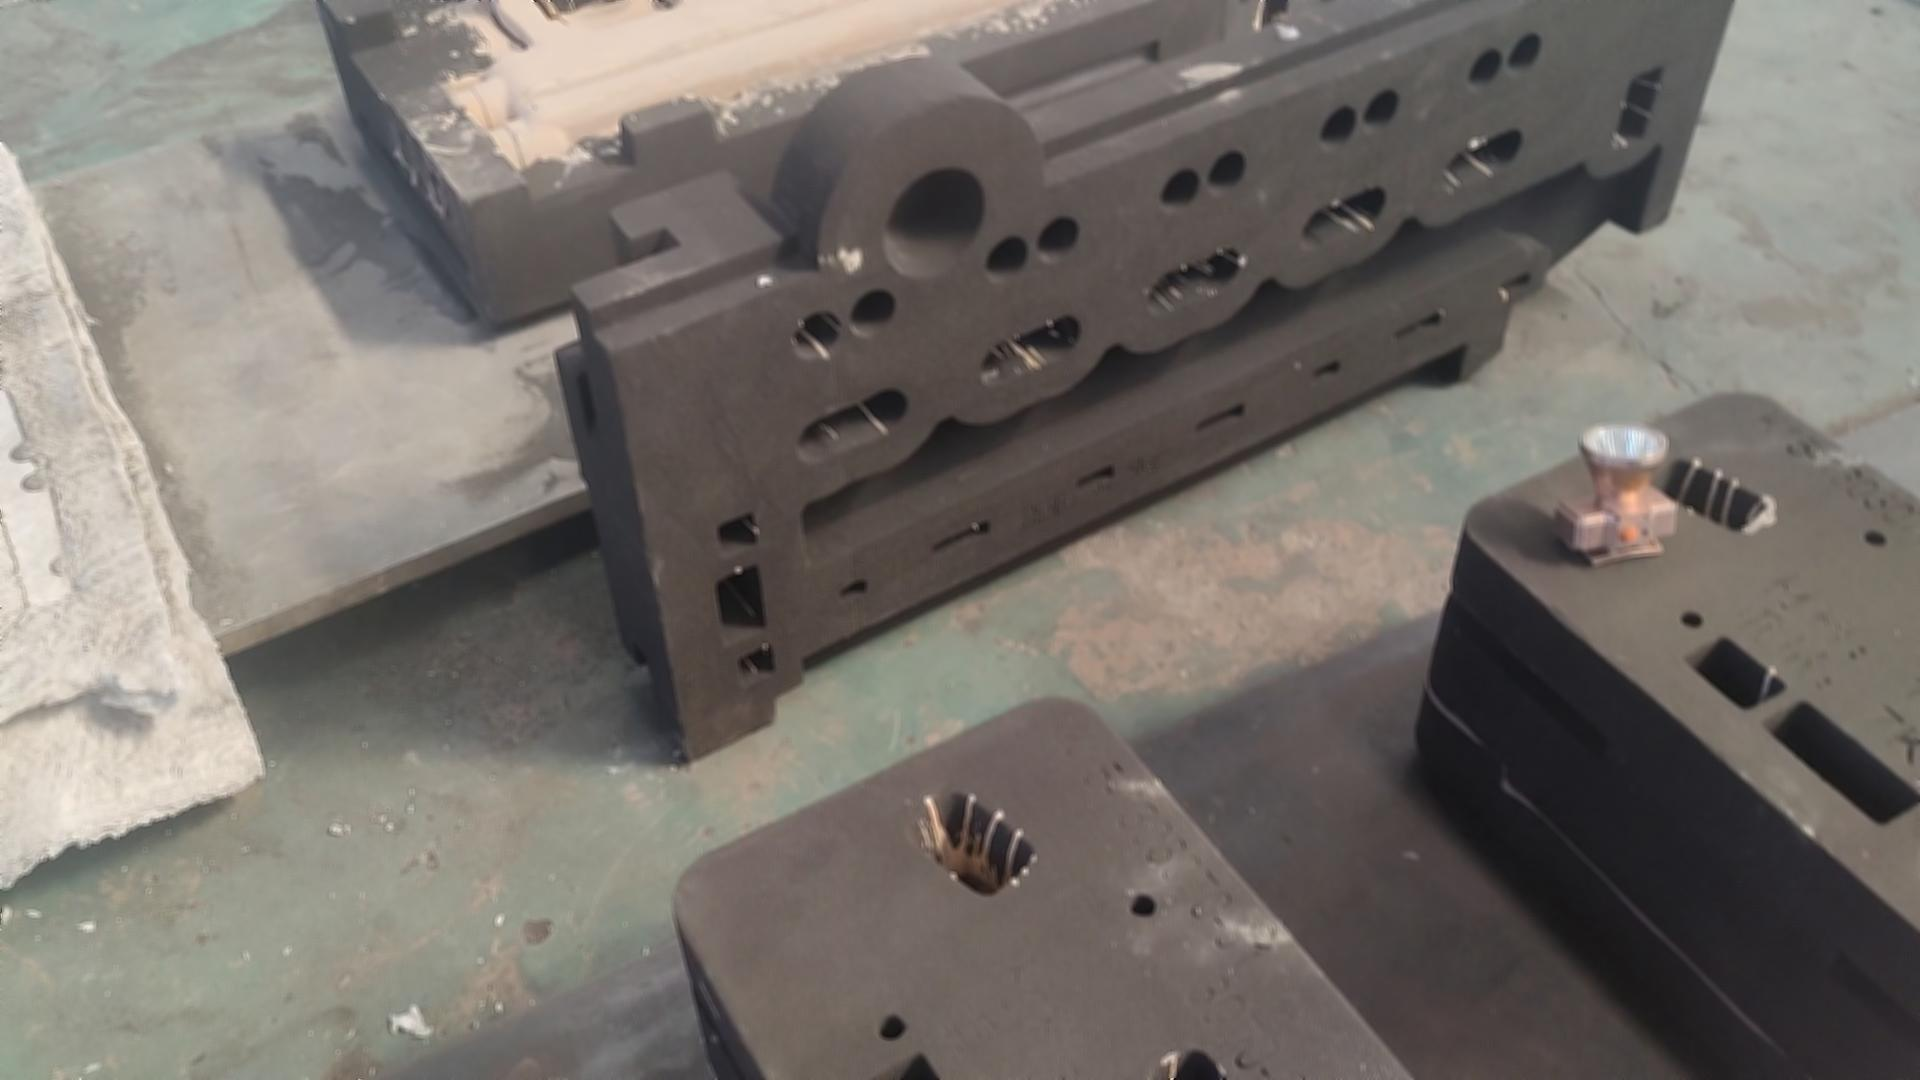pouring hole: (882, 166, 985, 280)
